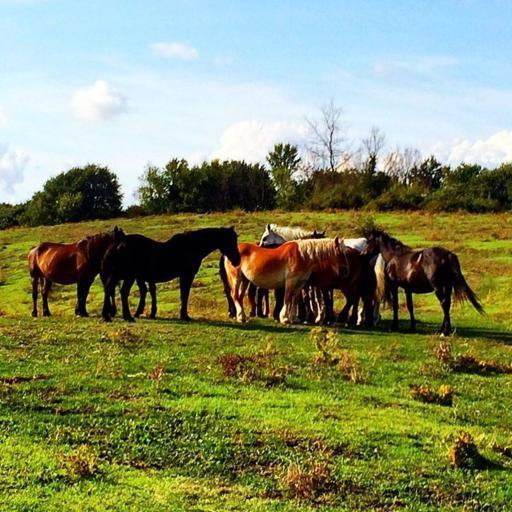horse: (216, 218, 487, 338), (101, 223, 243, 324), (24, 226, 127, 320)
